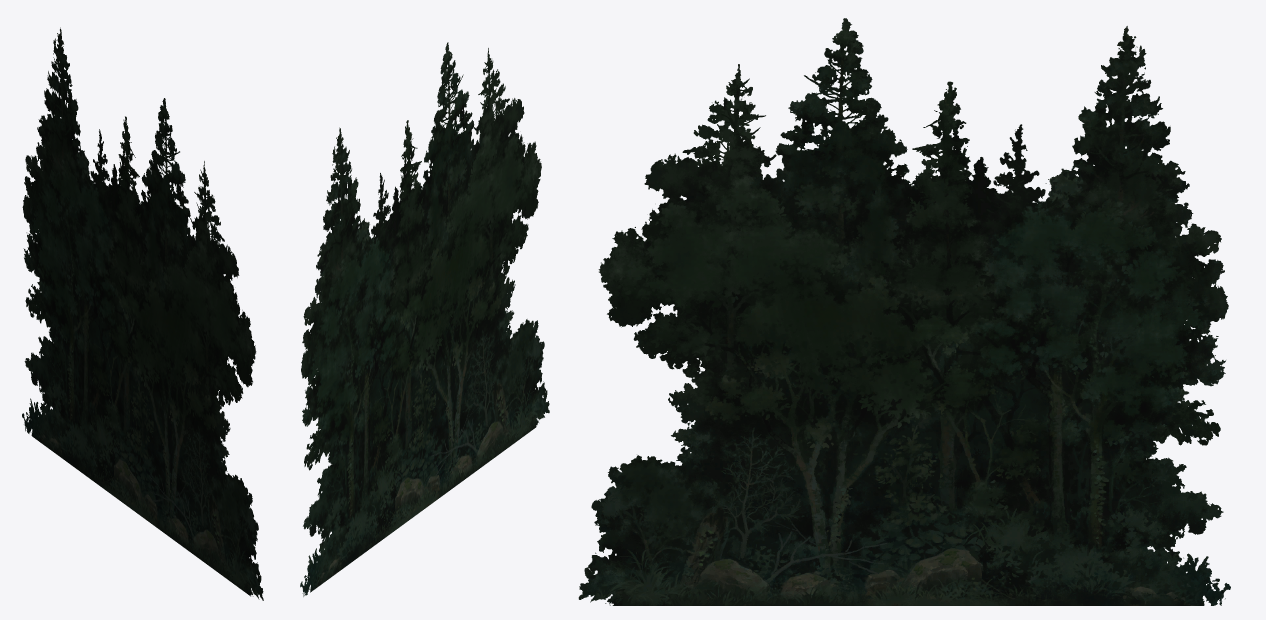
File: TreeFar2.fbx
3 views of the same model, side by side, from view 1: azimuth 30°, elevation 25°; view 2: azimuth 150°, elevation 25°; view 3: azimuth 270°, elevation 25° (orthographic). The views are drawn at different scales.
Parts seen in each view (by area): view 1: SM_d_106_Far_06a; view 2: SM_d_106_Far_06a; view 3: SM_d_106_Far_06a.
Boxes of the visible parts, x1,y1,x2,y2 form: SM_d_106_Far_06a: (22, 27, 263, 600); SM_d_106_Far_06a: (300, 42, 549, 596); SM_d_106_Far_06a: (578, 18, 1230, 605).
Size of the model in its own units: 0 by 1940 by 2000.
